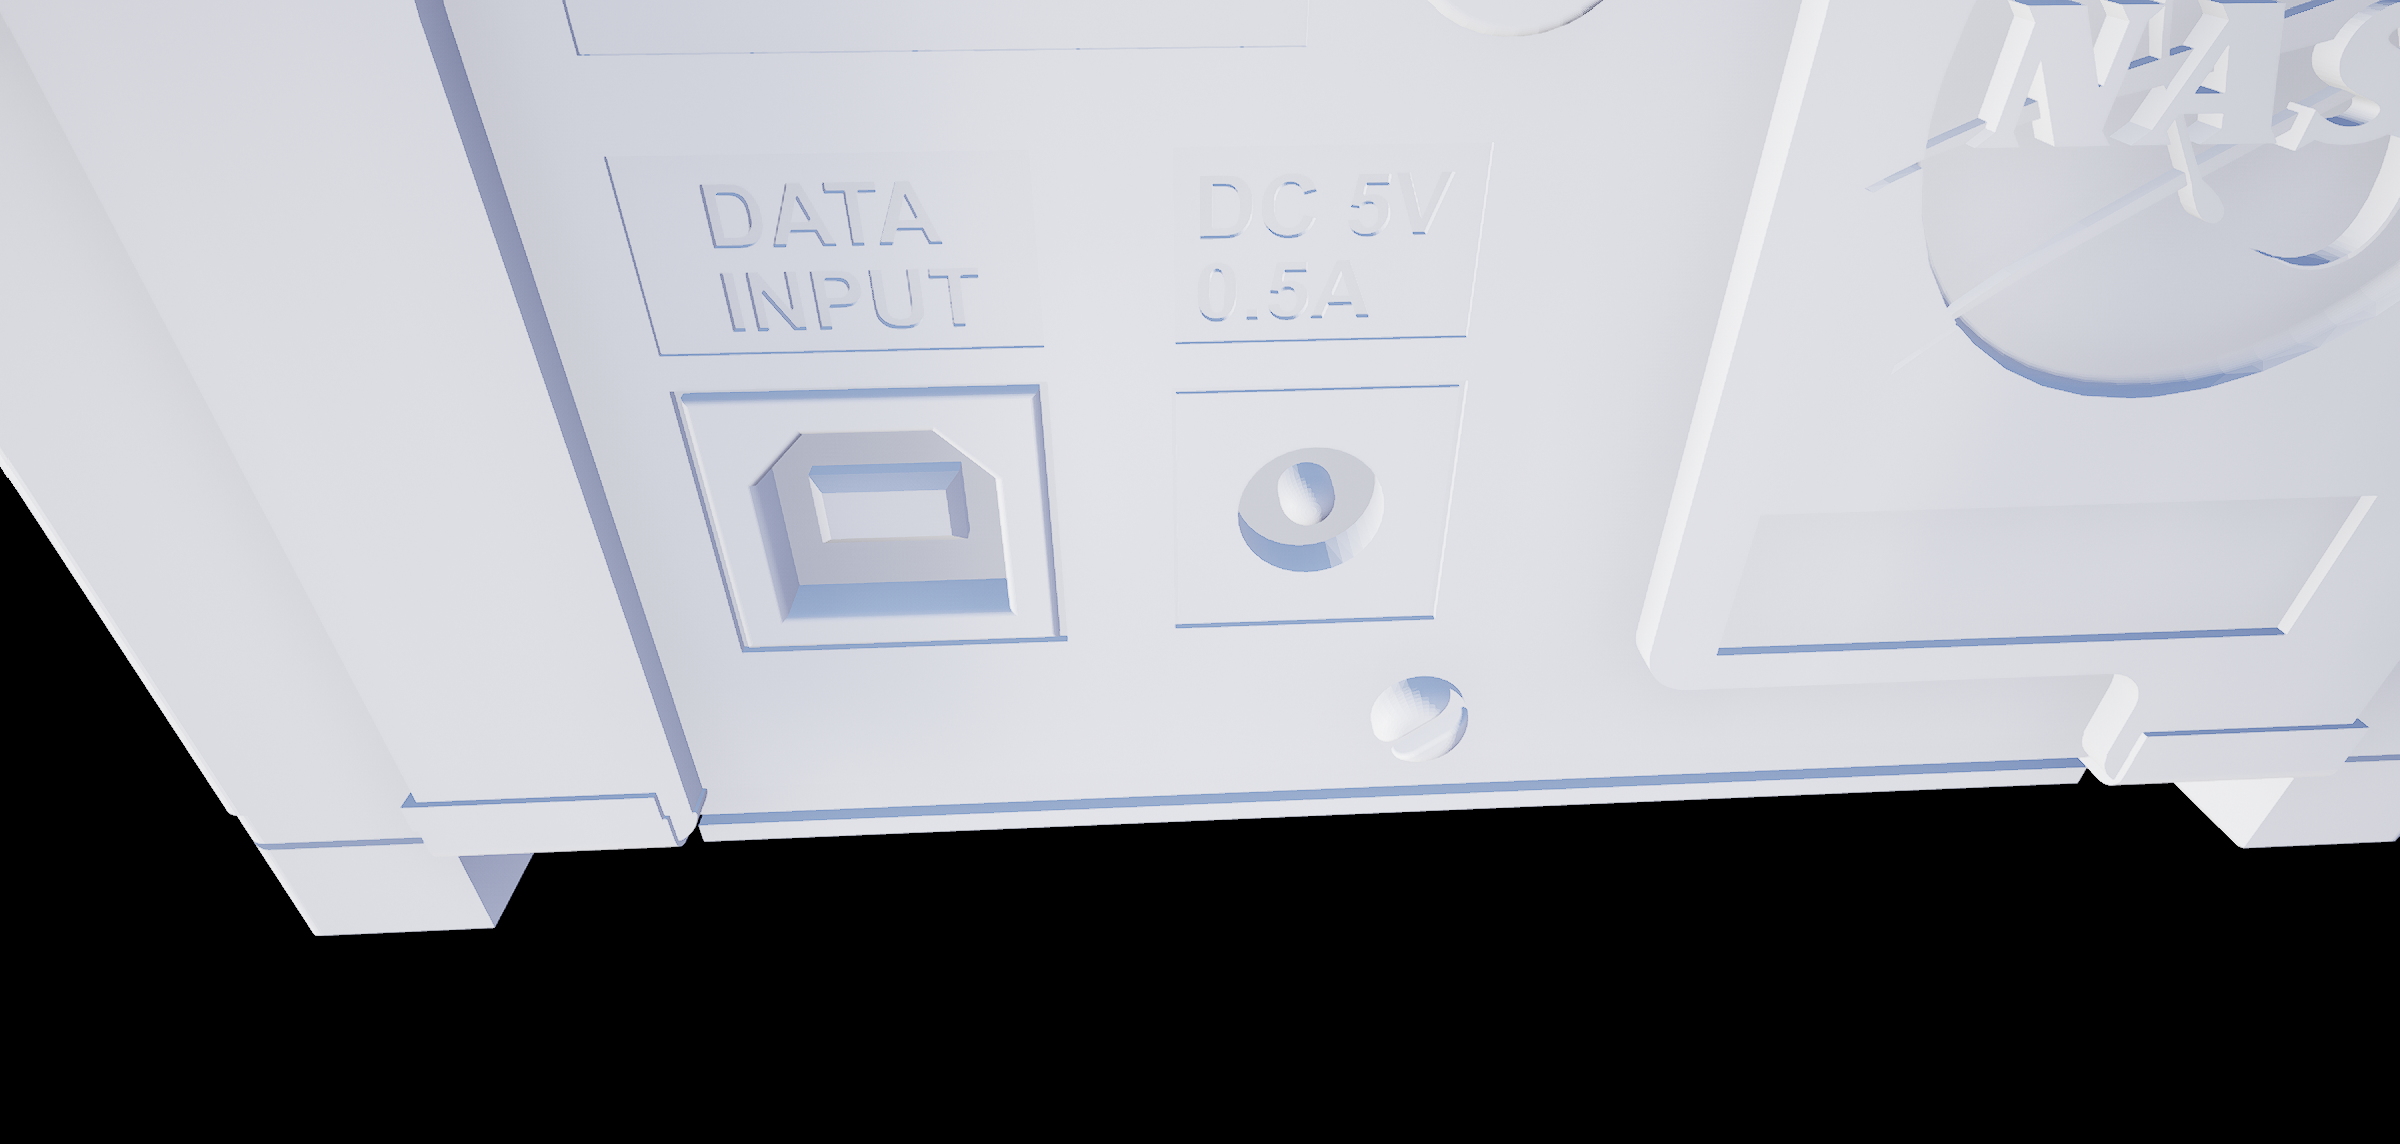dc: (1220, 436, 1402, 594)
usb: (732, 420, 1038, 642)
